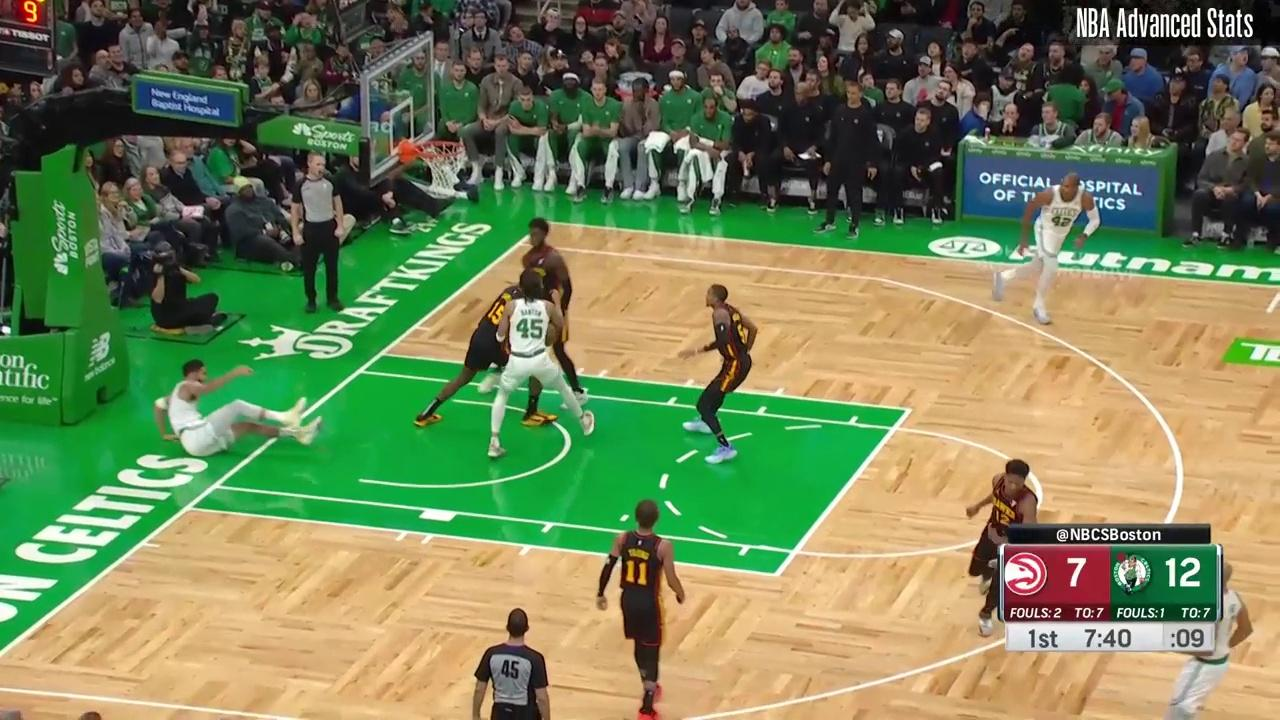3_dx: (512, 234, 530, 252)
free_adx: (899, 400, 917, 419)
free_asx: (768, 567, 783, 581)
free_bdx: (374, 347, 390, 362)
free_bsx: (180, 500, 195, 515)
mid_dx: (1262, 304, 1278, 320)
referee: (472, 606, 552, 720), (292, 152, 345, 313)
team: (488, 273, 595, 458), (991, 171, 1101, 327), (155, 357, 321, 458), (1172, 561, 1254, 720)
team1: (412, 274, 558, 427), (478, 217, 587, 405), (597, 498, 685, 720), (676, 284, 759, 464), (963, 454, 1041, 639)
timer: (1081, 623, 1138, 651)
